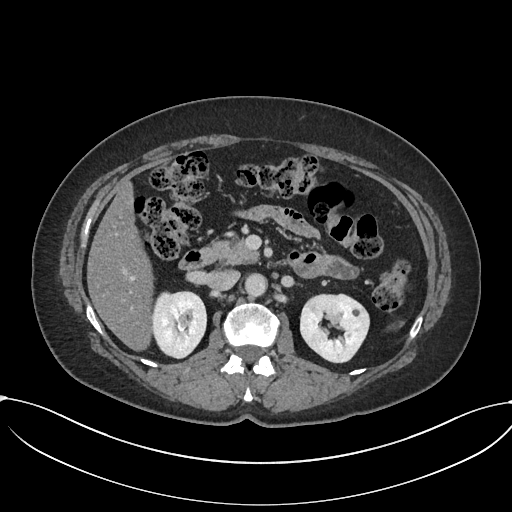Lesion: (349, 305, 360, 318)
